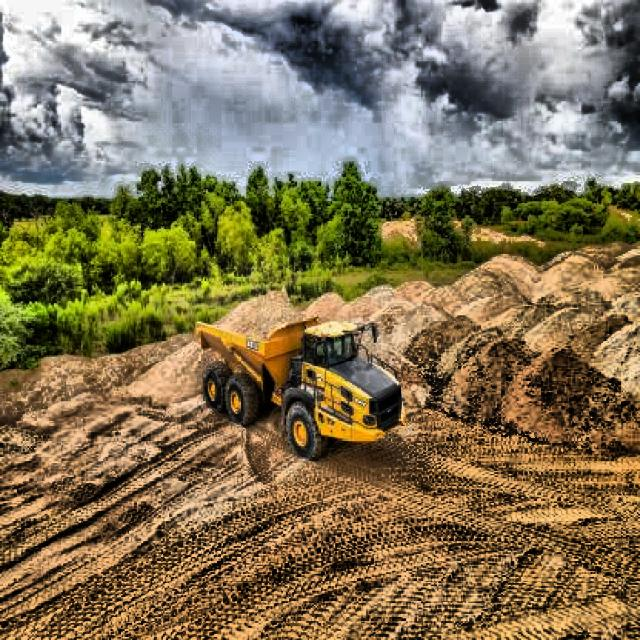dump_truck: (192, 286, 416, 464)
